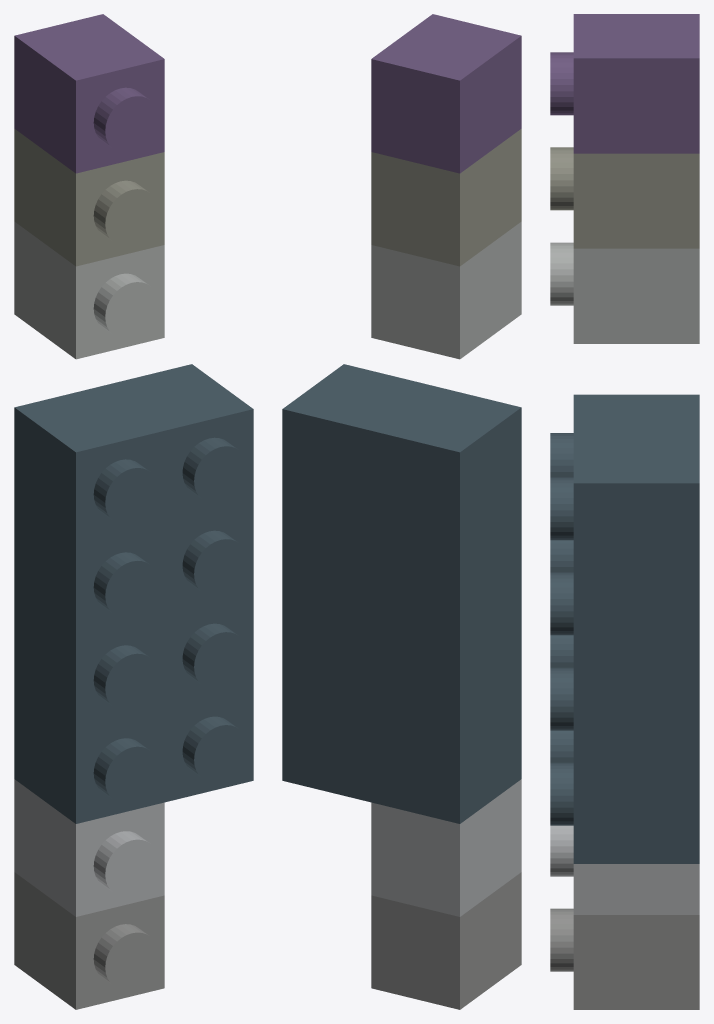
Rendered from current.glb.
3 views of the same model, side by side, from view 1: azimuth 30°, elevation 25°; view 2: azimuth 150°, elevation 25°; view 3: azimuth 270°, elevation 25° (orthographic). The views are drawn at different scales.
Visible parts, largest first — view 1: world; view 2: world; view 3: world.
Part boxes in pixels (x1,y1,x2,y2): world: (14,14,253,1009); world: (282,14,521,1009); world: (550,14,699,1009).
Size of the model in its own units: 16 by 80 by 11.4.
